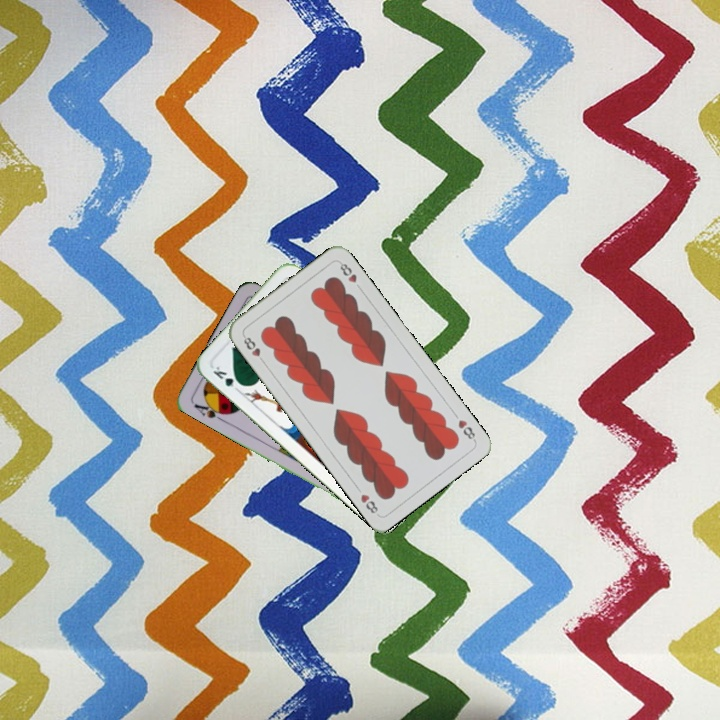GK: (209, 362, 245, 394)
H8: (239, 331, 268, 366), (454, 415, 478, 444)
SA: (190, 397, 229, 424)
